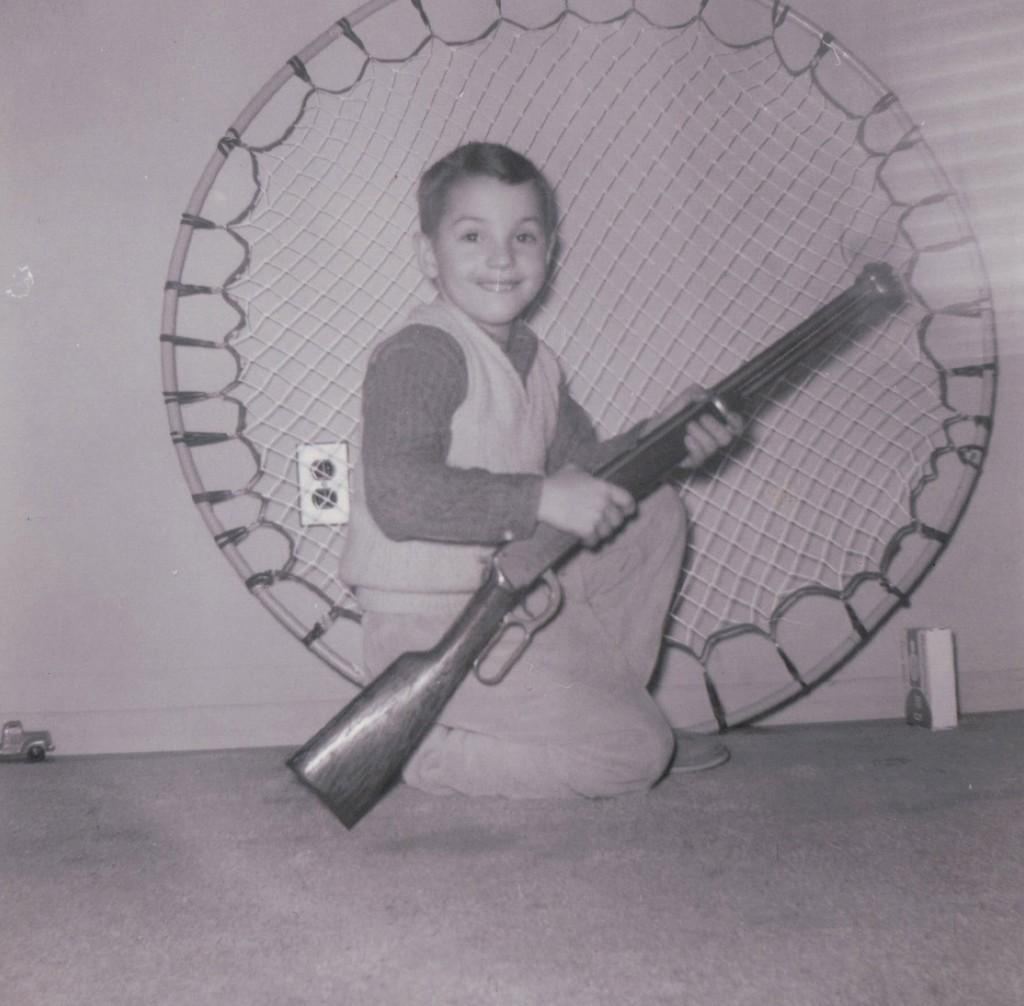Rifle: (282, 257, 904, 829)
